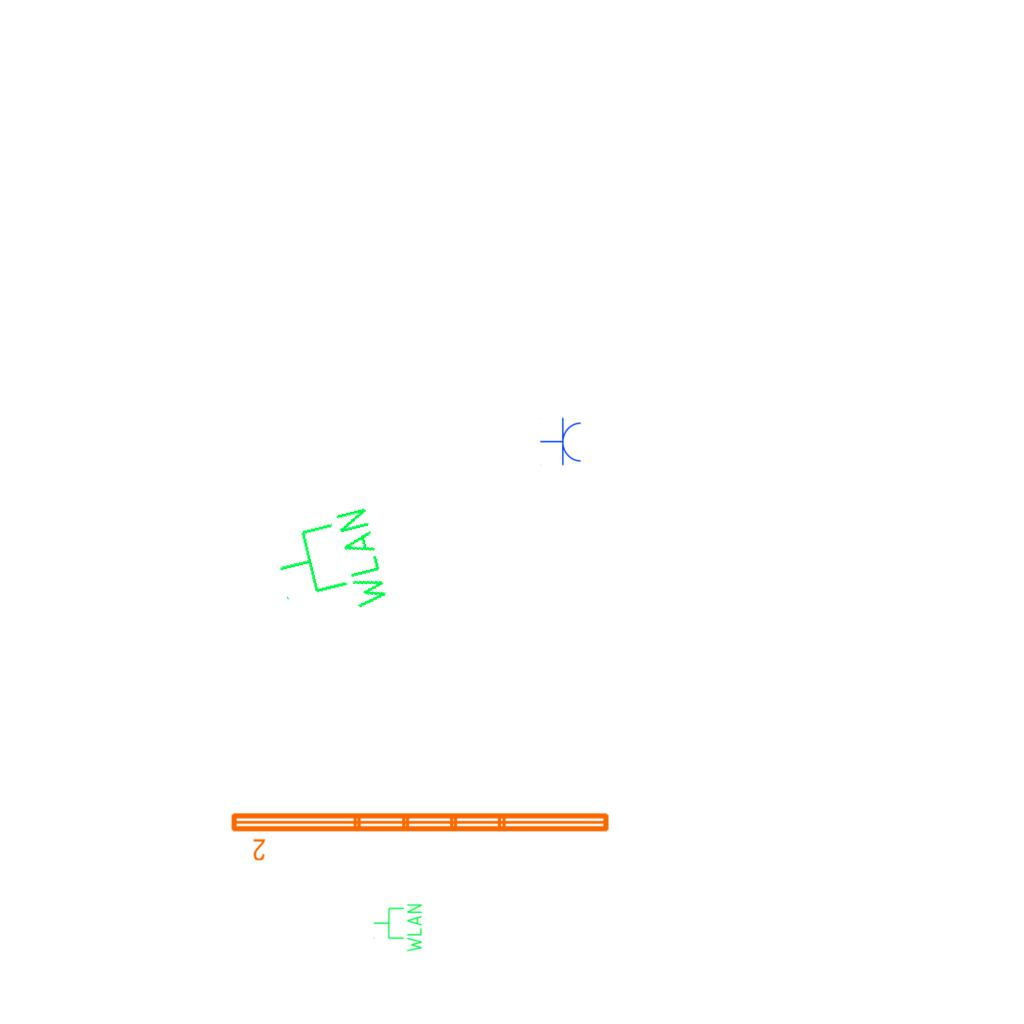Ambulanz_Pendelleuchte_LED: (227, 807, 614, 863)
Schukosteckdose_einfach: (540, 417, 583, 467)
WLAN: (266, 502, 394, 631), (372, 902, 424, 954)
